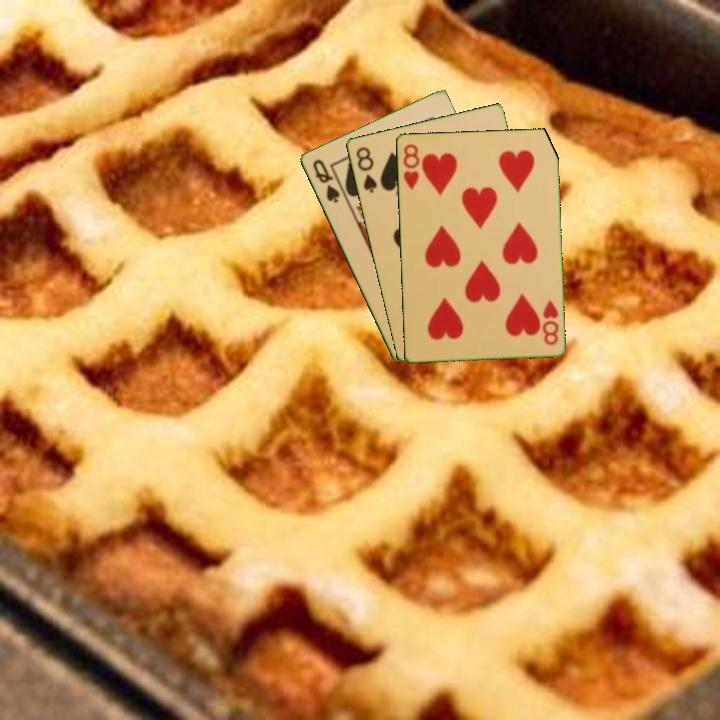8h: (399, 140, 422, 192), (539, 295, 561, 348)
8s: (352, 143, 379, 196)
Qs: (309, 155, 342, 206)
